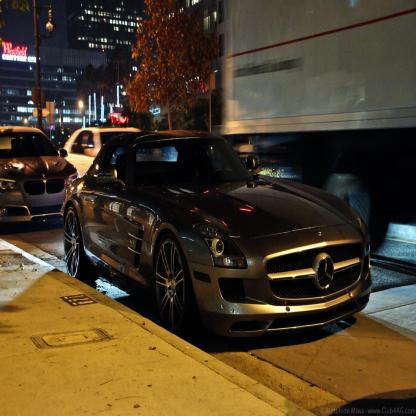Car: (0, 119, 372, 351)
